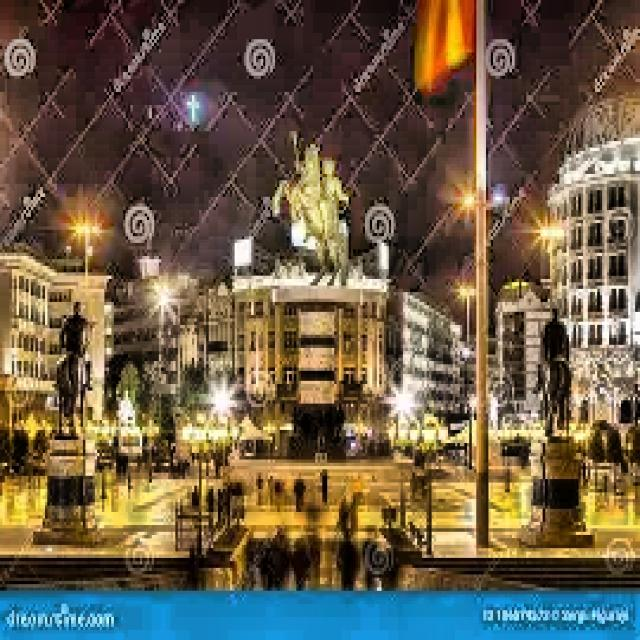alexander the great monument: (268, 128, 366, 455)
